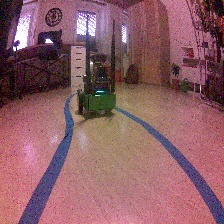rob: (75, 60, 117, 115)
